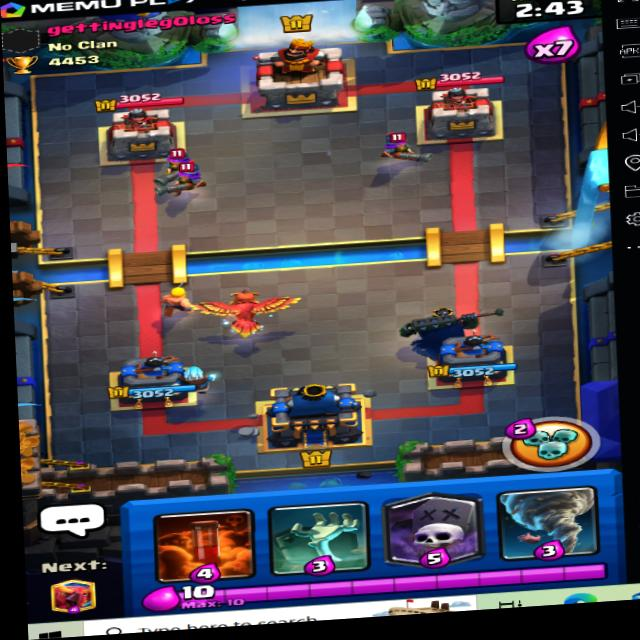musketeer: (376, 123, 433, 171), (156, 143, 216, 186), (163, 153, 213, 199)
